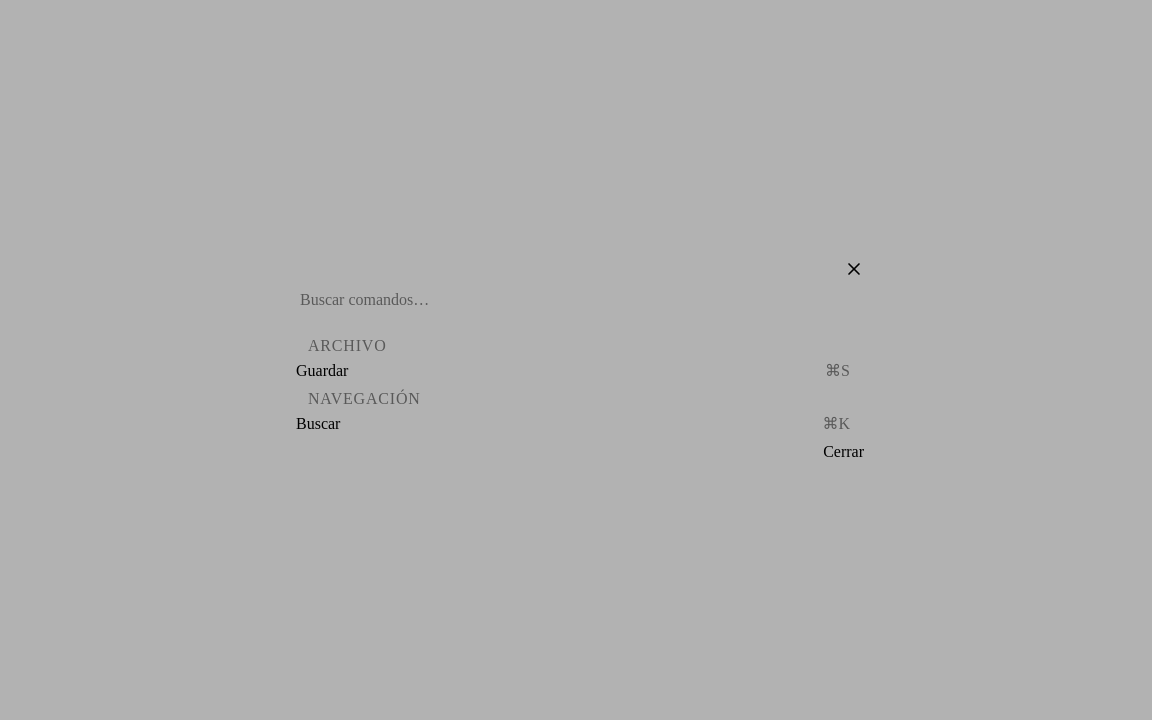
Test: CommandPalette — render de comandos › la búsqueda filtra por label
Type "Buscar" into the dropdown with placeholder "Buscar comandos…". click: (576,300)
box: [300, 291, 852, 309]
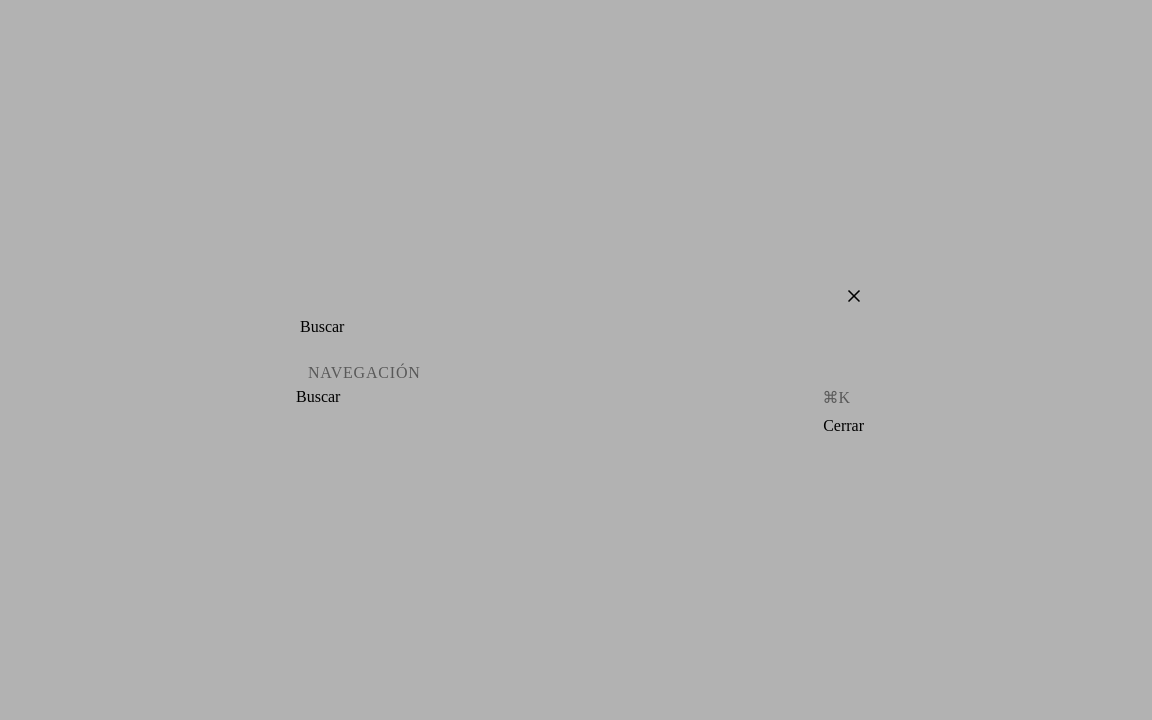
Expected: the option with class "cu-command-palette-item" shows "Buscar", [296, 386, 856, 408]
Now the number of options with class "cu-command-palette-item" is 1, box [296, 386, 856, 408]
